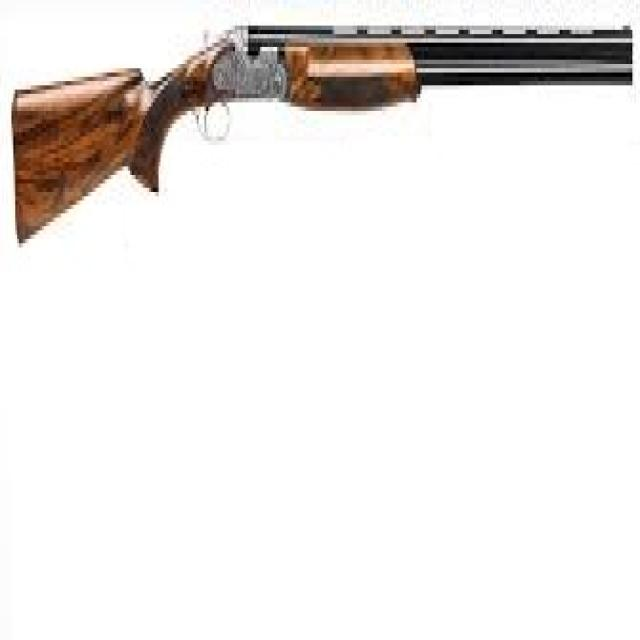rifle: (11, 10, 639, 256)
